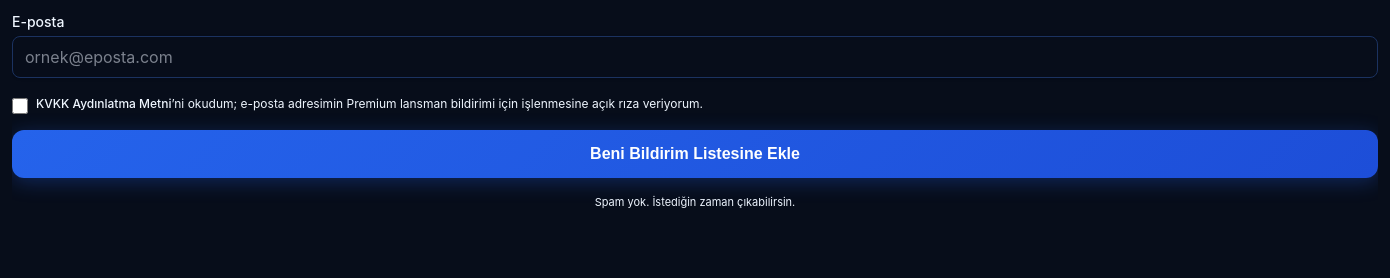
Test: WaitlistForm › 400 validation: kullanici-dostu hata gosterir
Type "user@example.com" into the field labelled "E-posta" at (695, 57), box [12,36,1378,78]
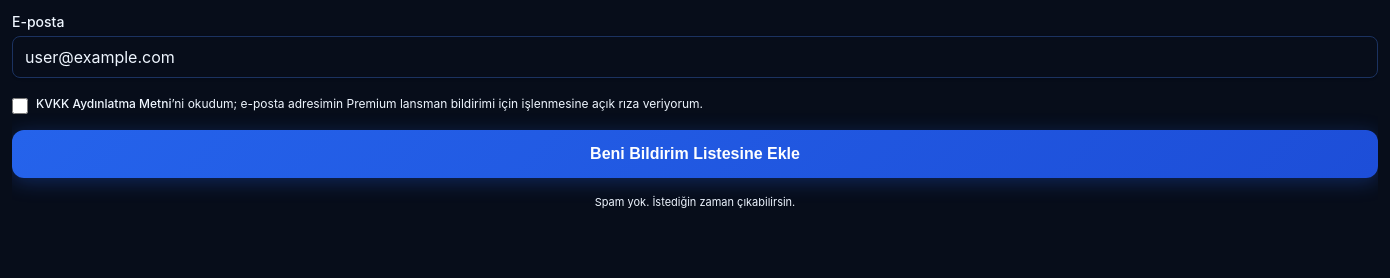
Click the checkbox labelled "KVKK" at (20, 106), box [12,98,28,114]
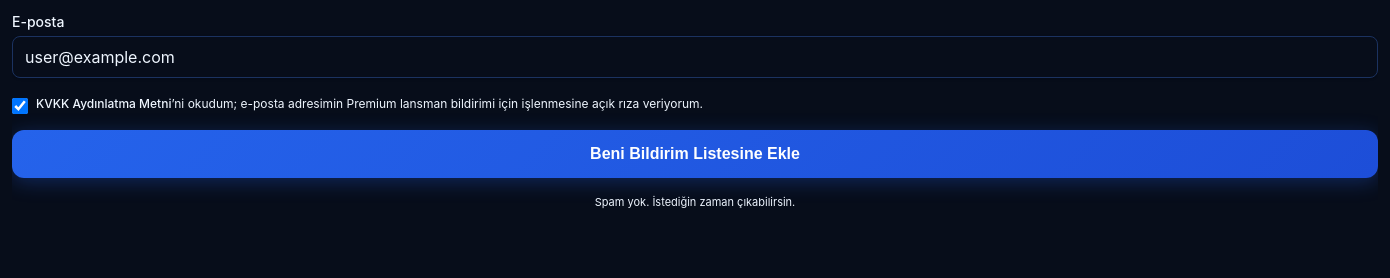
Click the button "Beni Bildirim Listesine Ekle" at (695, 154), box [12,130,1378,178]
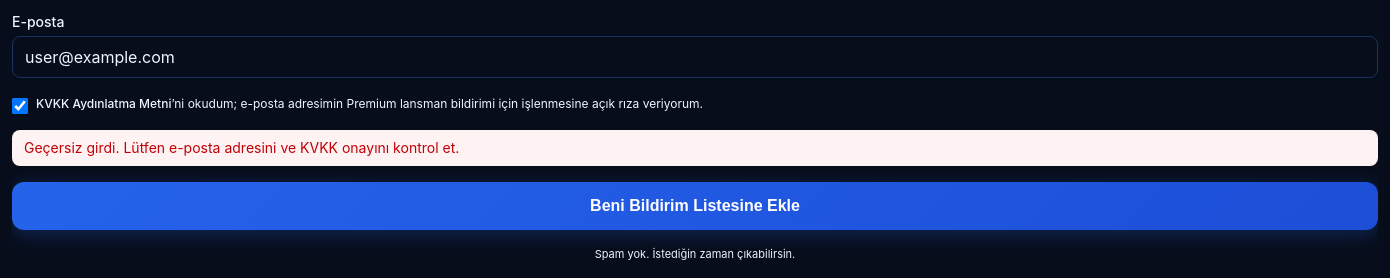
Now the text "Geçersiz girdi. Lütfen e-posta adresini ve KVKK onayını kontrol et." is shown, box [12,130,1378,166]
